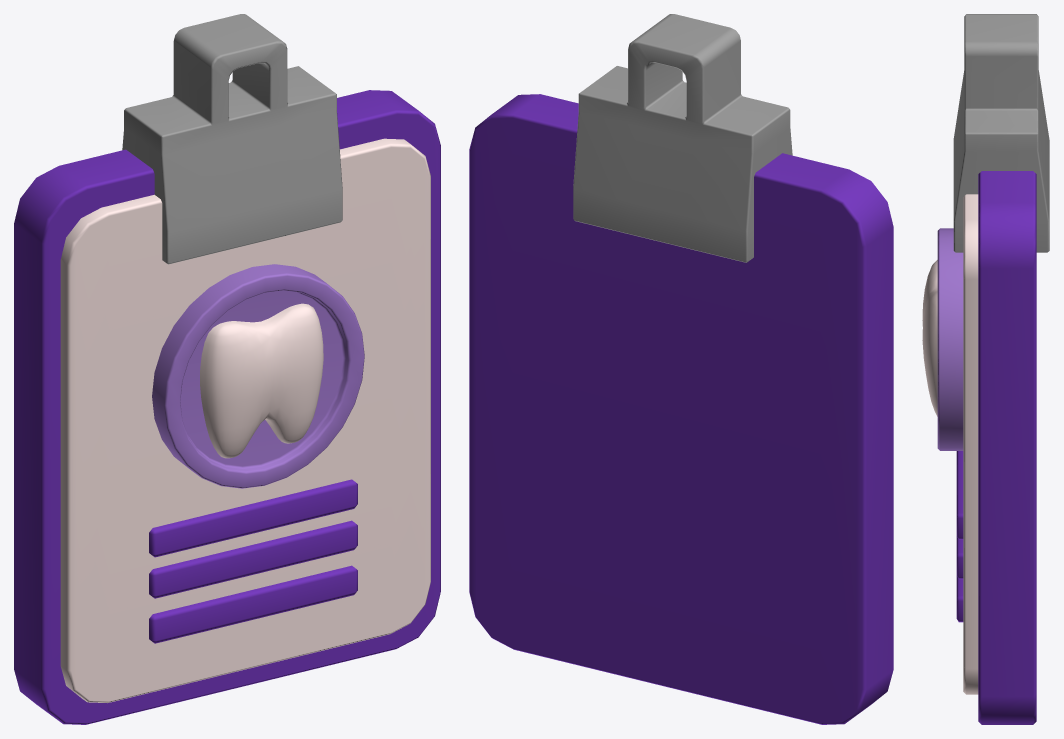
Rendered from Public_20_Dental_Report_2.glb.
3 renders of one model, left to right at view 1: azimuth 30°, elevation 25°; view 2: azimuth 150°, elevation 25°; view 3: azimuth 270°, elevation 25°, orthographic. The views are drawn at different scales.
Parts seen in each view (by area): view 1: Public_20_Dental_Report_2; view 2: Public_20_Dental_Report_2; view 3: Public_20_Dental_Report_2.
Part boxes in pixels (x1,y1,x2,y2): Public_20_Dental_Report_2: (14,14,440,724); Public_20_Dental_Report_2: (469,14,893,724); Public_20_Dental_Report_2: (922,14,1049,724).
Bounding box in the file's own units: 1.25 × 1.93 × 0.3589.
Materials: 1 (1 with a texture image).
